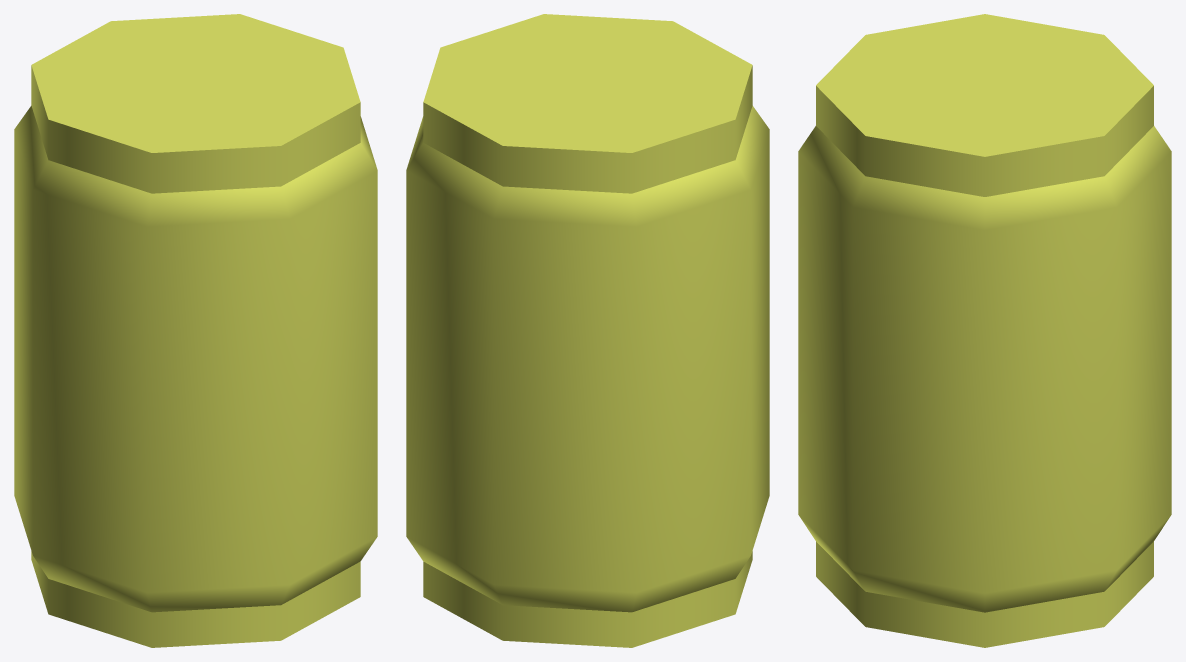
Rendered from li_can02.fbx.
3 renders of one model, left to right at view 1: azimuth 30°, elevation 25°; view 2: azimuth 150°, elevation 25°; view 3: azimuth 270°, elevation 25°, orthographic.
Visible parts, largest first — view 1: li_can02; view 2: li_can02; view 3: li_can02.
Boxes of the visible parts, x1,y1,x2,y2 form: li_can02: [14, 14, 377, 647]; li_can02: [406, 14, 769, 647]; li_can02: [798, 14, 1171, 647].
Bounding box in the file's own units: 9.93 × 14.4 × 9.93.
